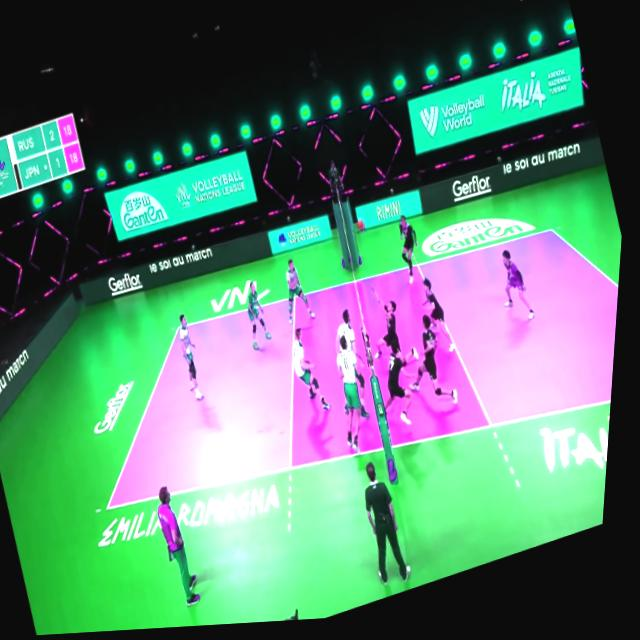player: (324, 332, 389, 458), (398, 310, 470, 417), (361, 274, 428, 373), (284, 322, 342, 424), (373, 338, 432, 436), (414, 274, 467, 365), (492, 247, 546, 336), (175, 314, 216, 408), (277, 257, 326, 332), (331, 309, 378, 385), (240, 280, 281, 355), (393, 216, 431, 290)
